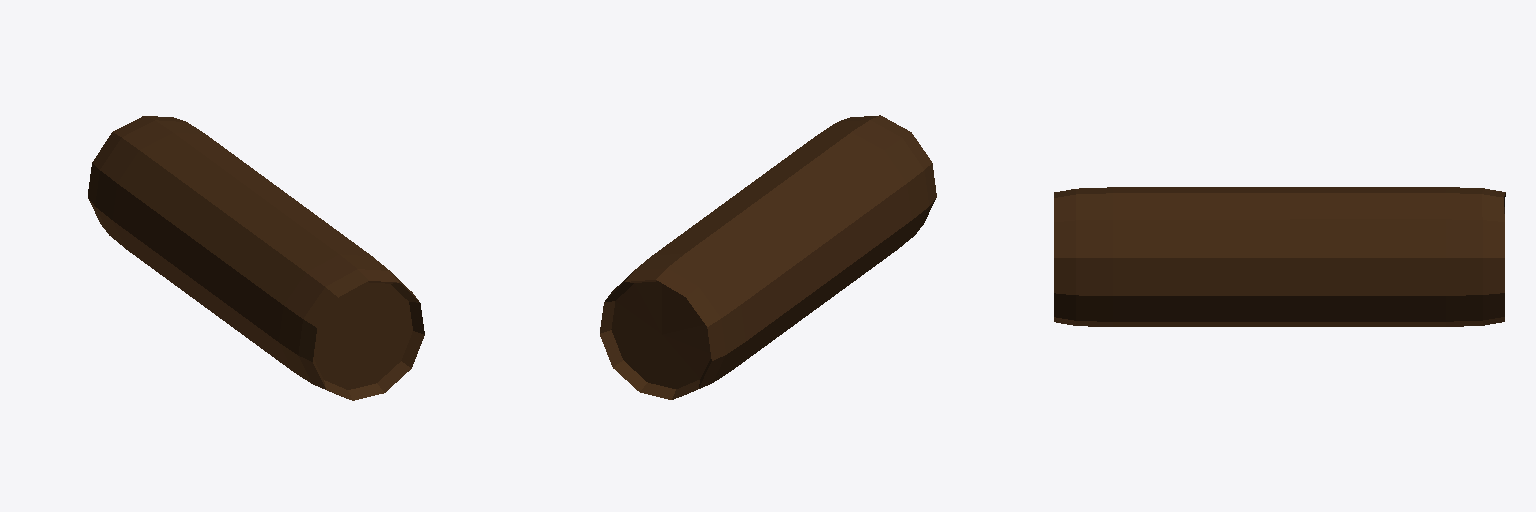
The model's file is log.obj.
3 renders of one model, left to right at view 1: azimuth 30°, elevation 25°; view 2: azimuth 150°, elevation 25°; view 3: azimuth 270°, elevation 25°, orthographic.
Visible parts, largest first — view 1: Cylinder; view 2: Cylinder; view 3: Cylinder.
Boxes of the visible parts, <box> form: Cylinder: <box>88,116,424,400</box>; Cylinder: <box>600,115,936,399</box>; Cylinder: <box>1054,187,1505,326</box>.
Size of the model in its own units: 1.19 by 1.18 by 3.83.